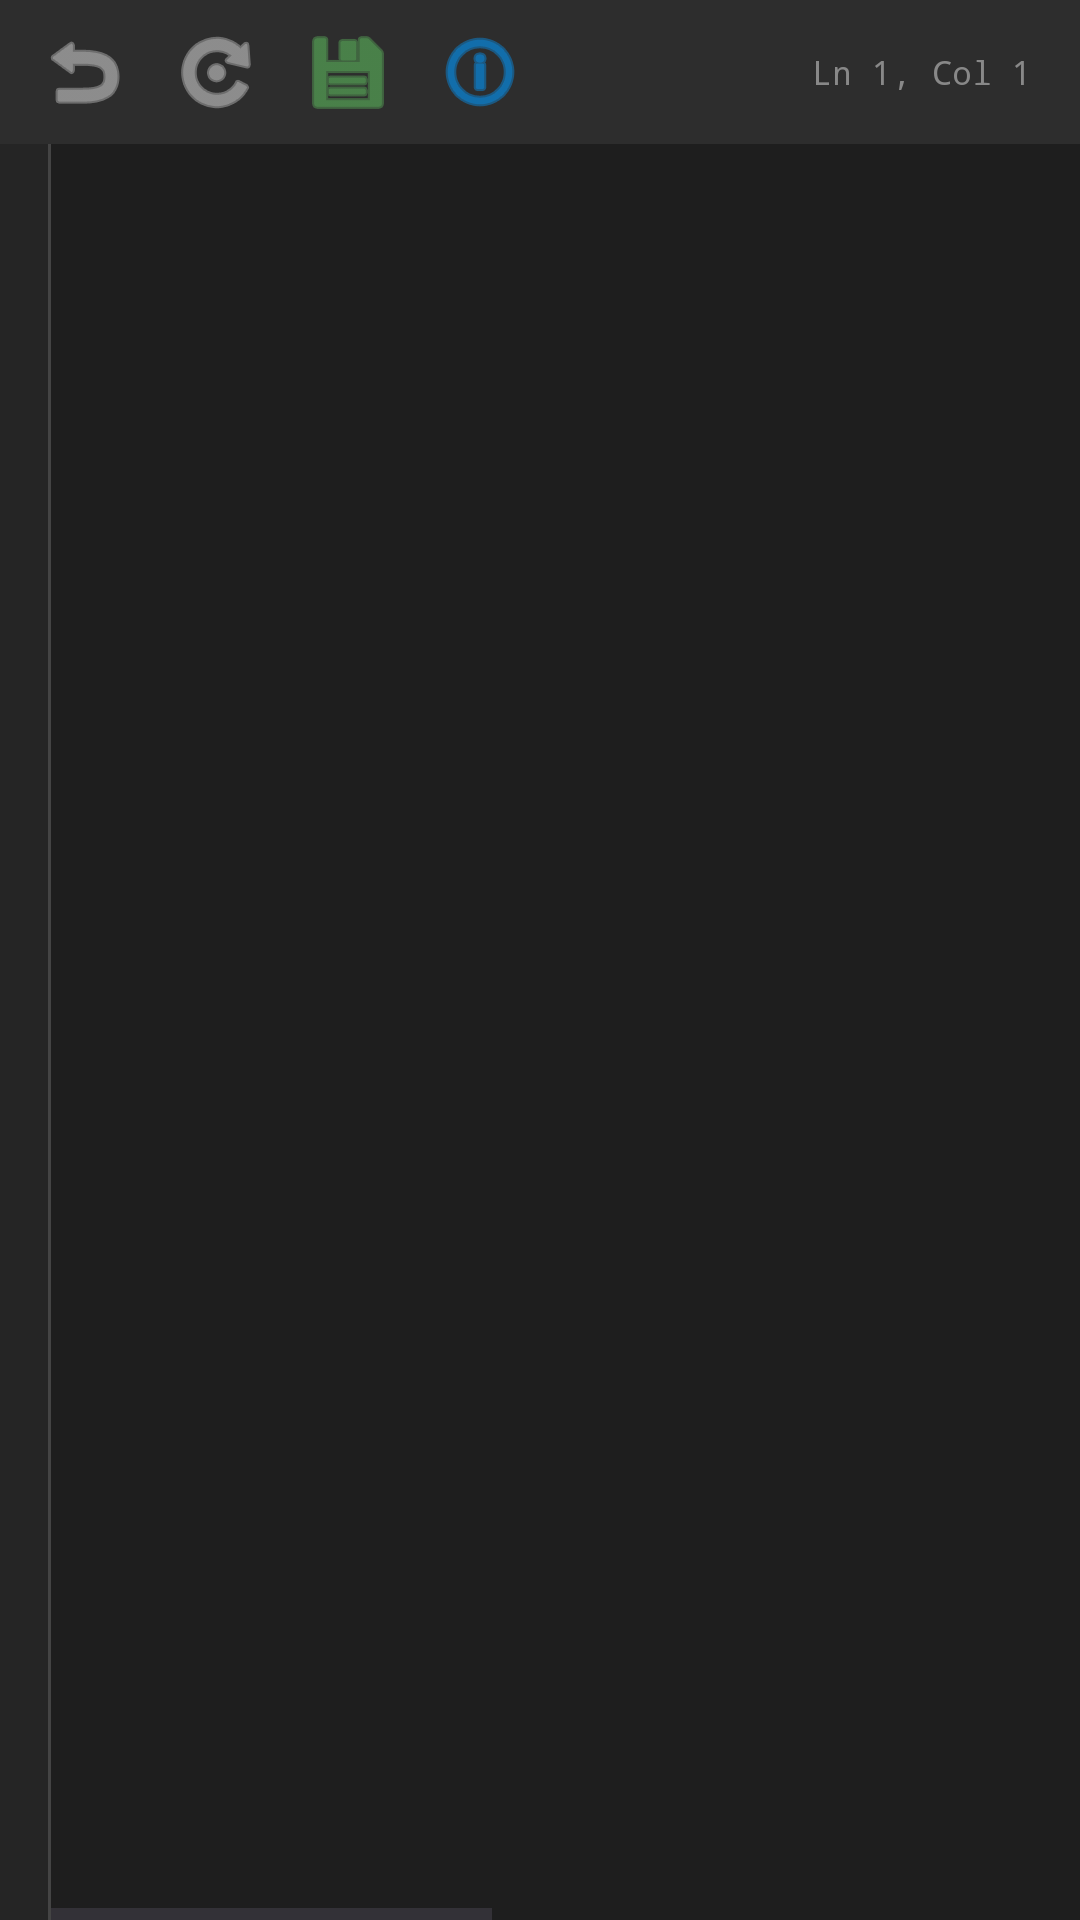

Named icons in this screenshot (1080 x 1920) and their bounding boxes, {"x1": x1, "y1": y1, "x2": x2, "y2": y2}:
Redo: {"x1": 181, "y1": 37, "x2": 251, "y2": 108}
Save: {"x1": 312, "y1": 36, "x2": 384, "y2": 109}
Undo: {"x1": 51, "y1": 42, "x2": 120, "y2": 104}
